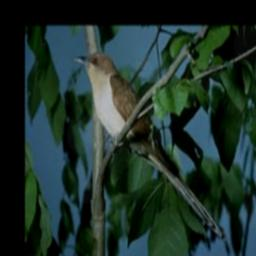Cuckoo: (69, 48, 226, 244)
